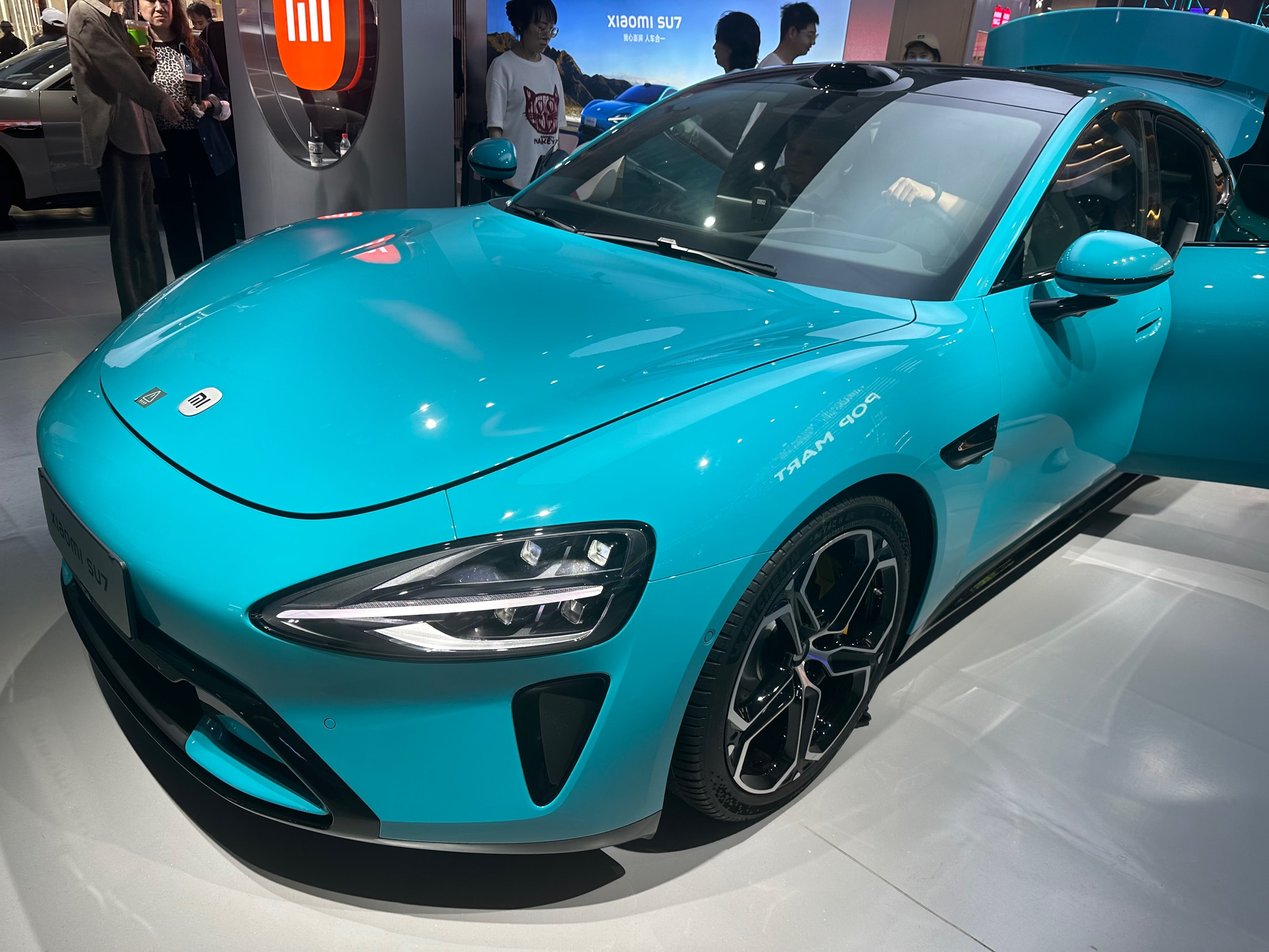su7: (37, 63, 1242, 851)
